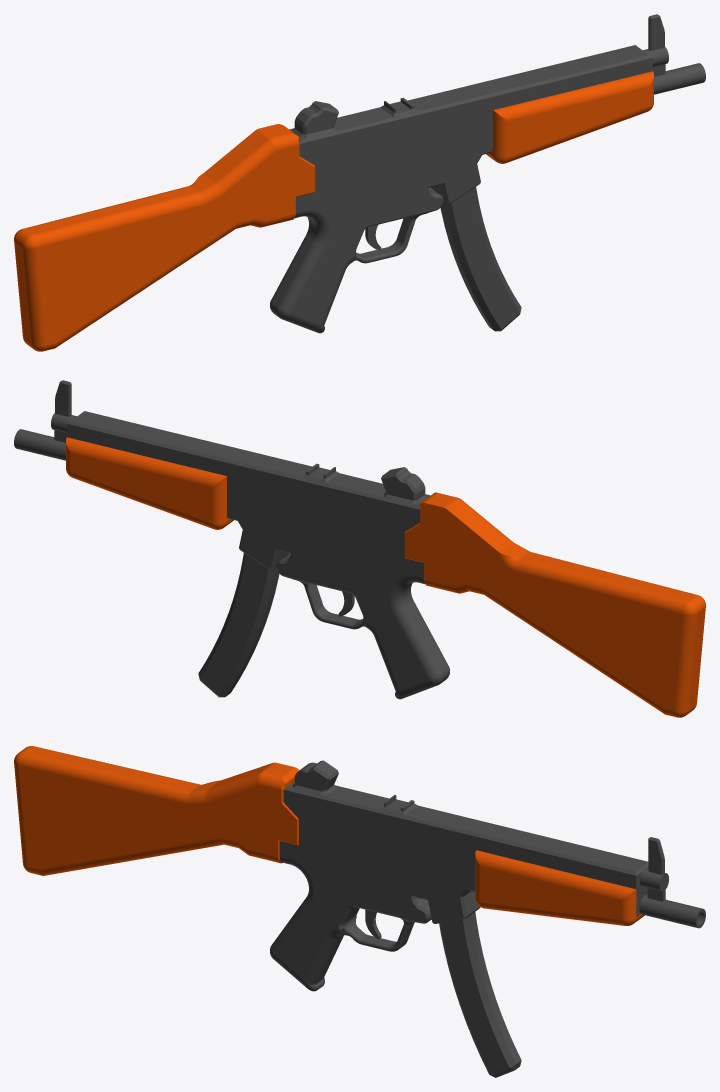
Rendered from GUN.fbx.
3 renders of one model, top to bottom at view 1: azimuth 30°, elevation 25°; view 2: azimuth 150°, elevation 25°; view 3: azimuth 330°, elevation 25°, orthographic.
Visible parts, largest first — view 1: Stock, Trigger Mechanism, Barrels, Front Grip, Mag, Barrel Attachment; view 2: Stock, Barrels, Trigger Mechanism, Front Grip, Mag, Barrel Attachment; view 3: Stock, Barrels, Trigger Mechanism, Front Grip, Mag, Barrel Attachment.
Boxes of the visible parts, x1,y1,x2,y2 form: Stock: (14, 124, 315, 351); Trigger Mechanism: (270, 115, 492, 333); Barrels: (289, 14, 668, 187); Front Grip: (486, 71, 653, 163); Mag: (440, 187, 521, 331); Barrel Attachment: (654, 63, 705, 94); Stock: (404, 492, 705, 717); Barrels: (51, 380, 430, 554); Trigger Mechanism: (227, 482, 449, 699); Front Grip: (66, 437, 233, 529); Mag: (198, 553, 279, 697); Barrel Attachment: (14, 429, 65, 460); Stock: (14, 746, 299, 875); Barrels: (283, 760, 668, 916); Trigger Mechanism: (270, 841, 480, 991); Front Grip: (475, 850, 644, 925); Mag: (439, 912, 521, 1077); Barrel Attachment: (639, 895, 705, 928).
Size of the model in its own units: 14496 by 5600 by 1000.
